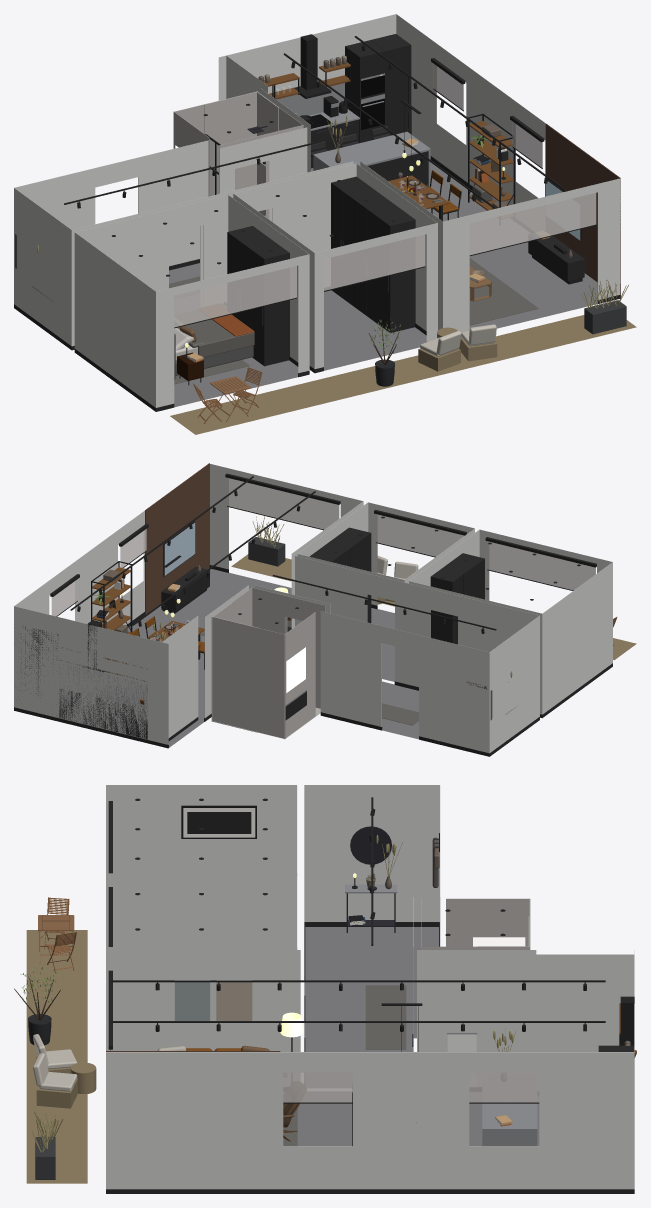
File: unit-1.C-urban.glb
3 views of the same model, one above another, from view 1: azimuth 30°, elevation 25°; view 2: azimuth 150°, elevation 25°; view 3: azimuth 270°, elevation 25° (orthographic). The views are drawn at different scales.
Visible parts, largest first — view 1: int-wall, int-joineryTall, int-sheer, int-floor, int-deck, int-showerWall, int-feature, int-matteBlack, int-wood, int-rug, int-worktop, int-bathWall (+12 smaller); view 2: int-wall, int-bathWall, int-sheer, int-joineryTall, int-feature, int-floor, int-matteBlack, int-skirting, int-joinery, int-inst-track|matteBlack, int-wood, int-hallFloor (+8 smaller); view 3: int-wall, int-hallFloor, int-deck, int-sheer, int-bathWall, int-skirting, int-floor, int-rug, int-inst-track|matteBlack, int-matteBlack, int-worktop, int-metal (+11 smaller).
Boxes of the visible parts, x1,y1,x2,y2 form: int-wall: (14,14,620,407); int-joineryTall: (227,34,584,366); int-sheer: (174,63,596,327); int-floor: (174,162,597,407); int-deck: (170,315,636,434); int-showerWall: (204,91,278,215); int-feature: (545,123,620,297); int-matteBlack: (77,34,596,358); int-wood: (263,61,513,210); int-rug: (169,258,538,384); int-worktop: (32,108,430,302); int-bathWall: (173,91,303,219); int-wall: (14,464,612,753); int-bathWall: (211,587,325,738); int-sheer: (51,477,595,616); int-joineryTall: (14,527,484,720); int-feature: (145,463,209,614); int-floor: (127,569,394,747); int-matteBlack: (50,473,596,741); int-skirting: (14,565,612,756); int-joinery: (59,689,147,739); int-inst-track|matteBlack: (70,476,496,630); int-wood: (60,567,204,704); int-hallFloor: (382,681,418,739); int-wall: (106,785,634,1189); int-hallFloor: (304,927,438,1051); int-deck: (26,930,87,1183); int-sheer: (110,1050,539,1102); int-bathWall: (420,898,530,949); int-skirting: (106,922,634,1193); int-floor: (297,1103,539,1146); int-rug: (283,985,406,1146); int-inst-track|matteBlack: (111,797,605,1022); int-matteBlack: (108,801,634,1103); int-worktop: (345,884,537,1146); int-metal: (291,826,438,1051).
Bounding box in the file's own units: 10.92 × 2.7 × 10.71.
